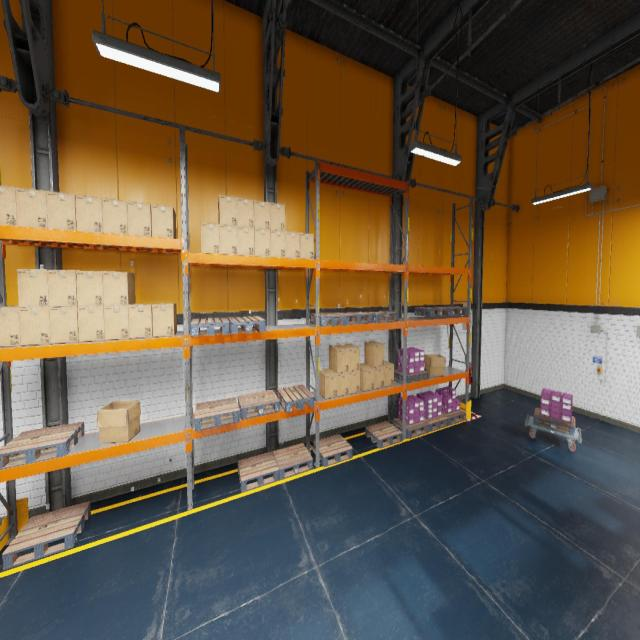box: (96, 400, 141, 443), (16, 187, 47, 228), (17, 268, 49, 307), (19, 307, 50, 345), (46, 191, 76, 230), (49, 306, 78, 344), (103, 271, 135, 305), (47, 270, 77, 306), (75, 195, 103, 232), (77, 306, 105, 342), (76, 270, 103, 306), (102, 198, 128, 234), (128, 304, 155, 338), (104, 305, 129, 340), (127, 201, 152, 236), (152, 302, 177, 336), (151, 204, 176, 238), (0, 305, 20, 347), (0, 185, 17, 226), (200, 222, 220, 254), (218, 194, 237, 226), (329, 345, 349, 373), (237, 196, 254, 228), (340, 344, 360, 371), (320, 368, 337, 399), (364, 341, 384, 367), (220, 224, 237, 254), (365, 362, 384, 388), (237, 227, 254, 256), (424, 354, 446, 376), (254, 228, 270, 257), (254, 200, 270, 229), (270, 202, 285, 231), (270, 230, 286, 257), (285, 231, 300, 258), (360, 363, 374, 391), (300, 232, 314, 259), (337, 372, 349, 396), (384, 360, 394, 387), (349, 370, 360, 394)
pallets: (2, 501, 91, 570), (0, 421, 84, 469), (238, 451, 279, 492), (194, 397, 240, 431), (272, 443, 313, 479), (313, 434, 352, 467), (238, 390, 280, 420), (533, 407, 575, 436), (277, 384, 314, 412), (365, 421, 402, 448), (190, 318, 230, 337), (393, 418, 429, 438), (228, 316, 265, 334), (394, 368, 428, 383), (310, 312, 346, 326), (334, 312, 373, 324), (424, 414, 448, 432), (364, 311, 399, 322), (442, 409, 466, 425), (414, 307, 450, 317), (435, 306, 468, 316)
